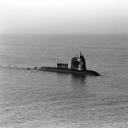submarine: (38, 52, 104, 77)
